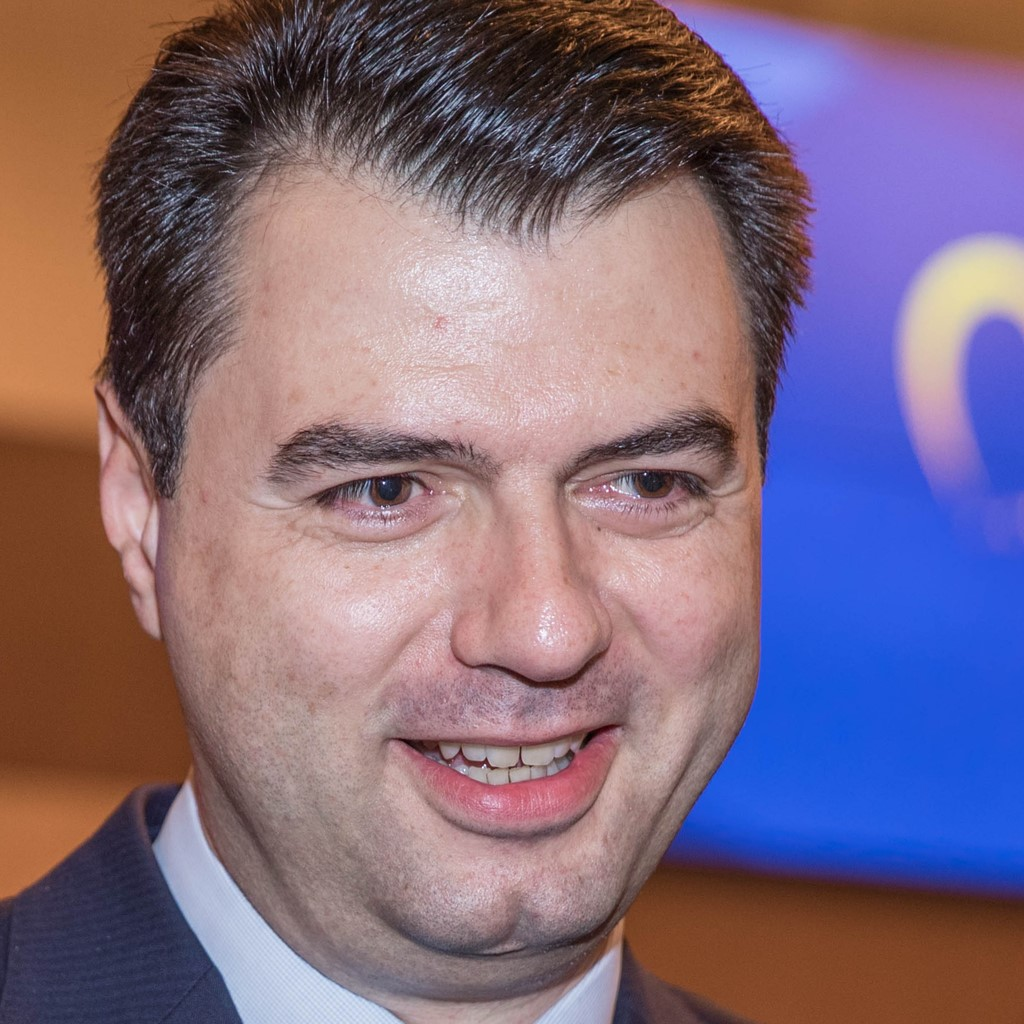sin_mascara: (140, 121, 771, 945)
